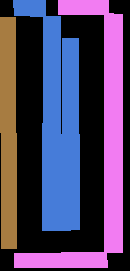parkingspot: (104, 13, 122, 252), (42, 16, 60, 230), (0, 17, 16, 248), (61, 38, 79, 230), (14, 252, 107, 267), (58, 0, 108, 14), (13, 0, 45, 16)
